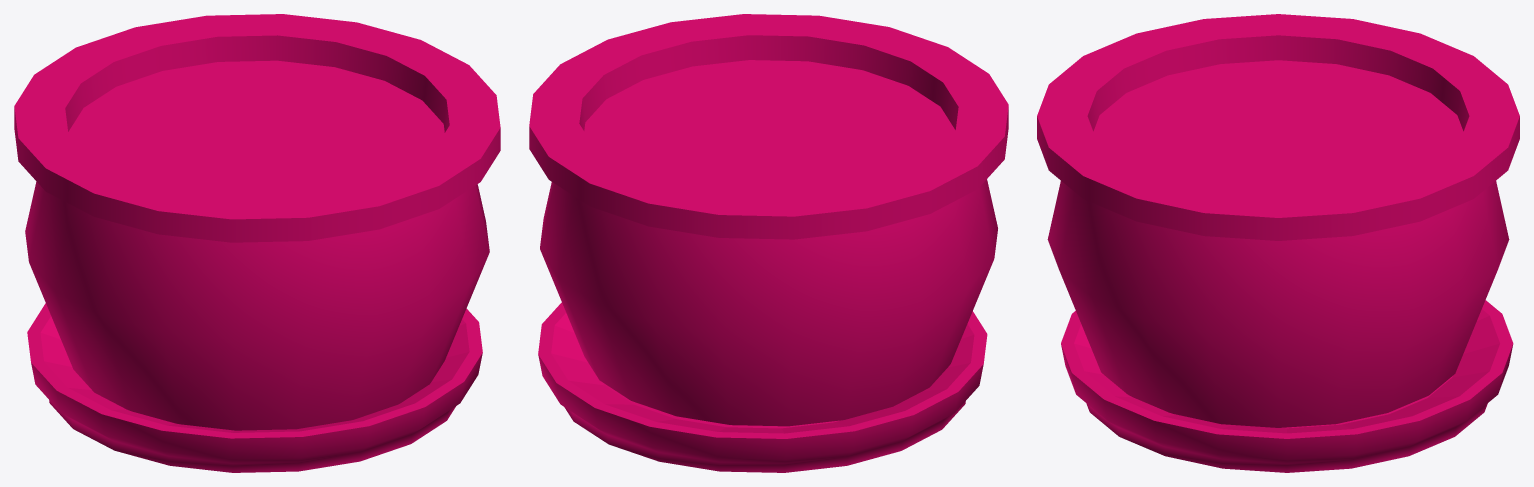
Rendered from Plant_Pot_03.fbx.
The picture shows the model from 3 angles, left to right: view 1: azimuth 30°, elevation 25°; view 2: azimuth 150°, elevation 25°; view 3: azimuth 270°, elevation 25°; orthographic projection.
Visible parts, largest first — view 1: Plant_Pot_03; view 2: Plant_Pot_03; view 3: Plant_Pot_03.
Part boxes in pixels (x1,y1,x2,y2): Plant_Pot_03: (14,14,500,472); Plant_Pot_03: (529,14,1008,472); Plant_Pot_03: (1037,14,1519,472).
Size of the model in its own units: 40.51 by 24.83 by 40.51.
